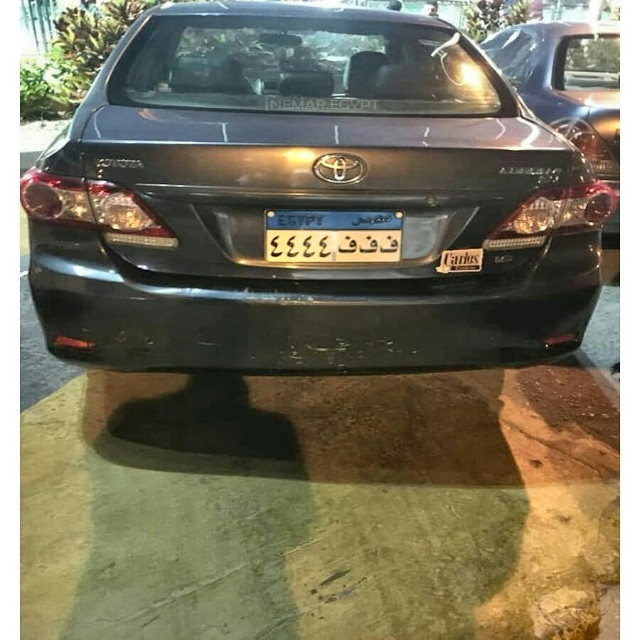License Plate: (262, 205, 407, 266)
